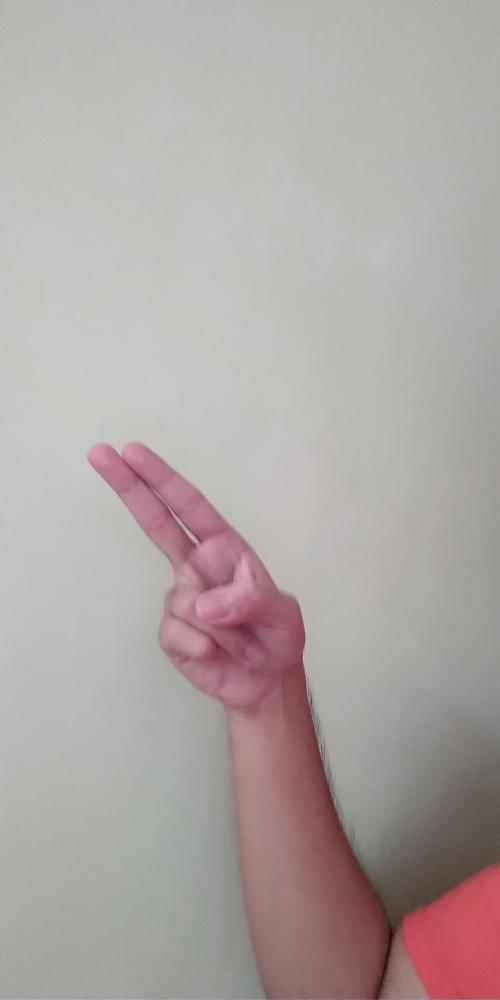u: (84, 436, 308, 709)
